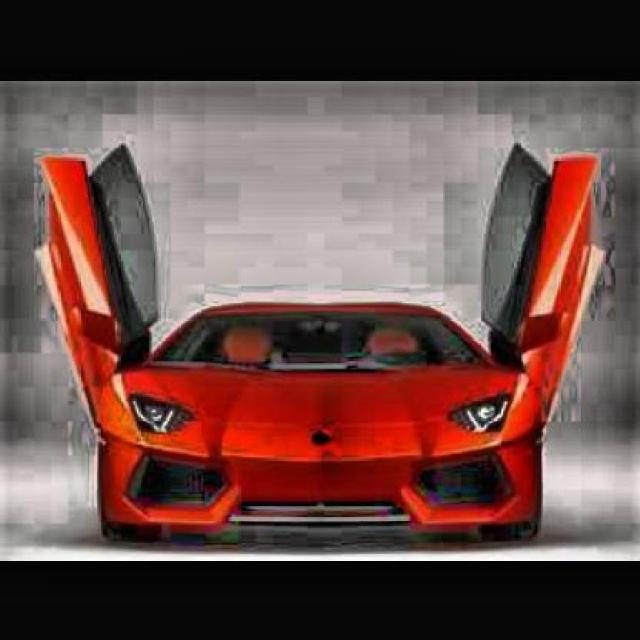red: (33, 145, 603, 540)
